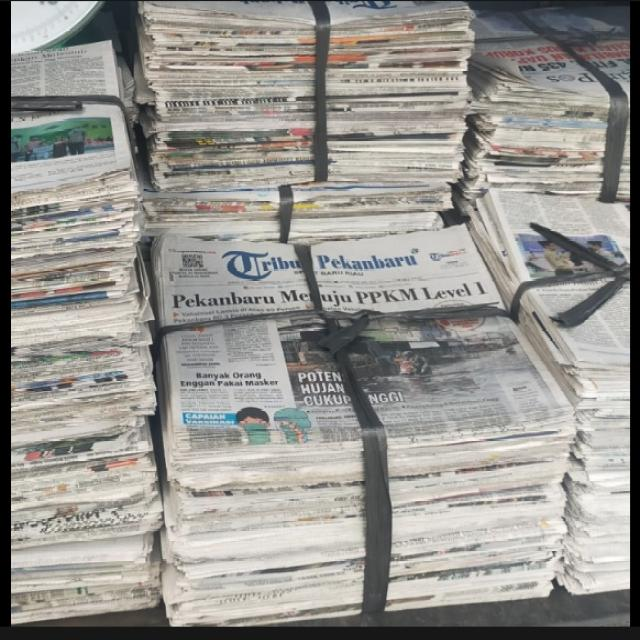Koran: (9, 0, 632, 628)
